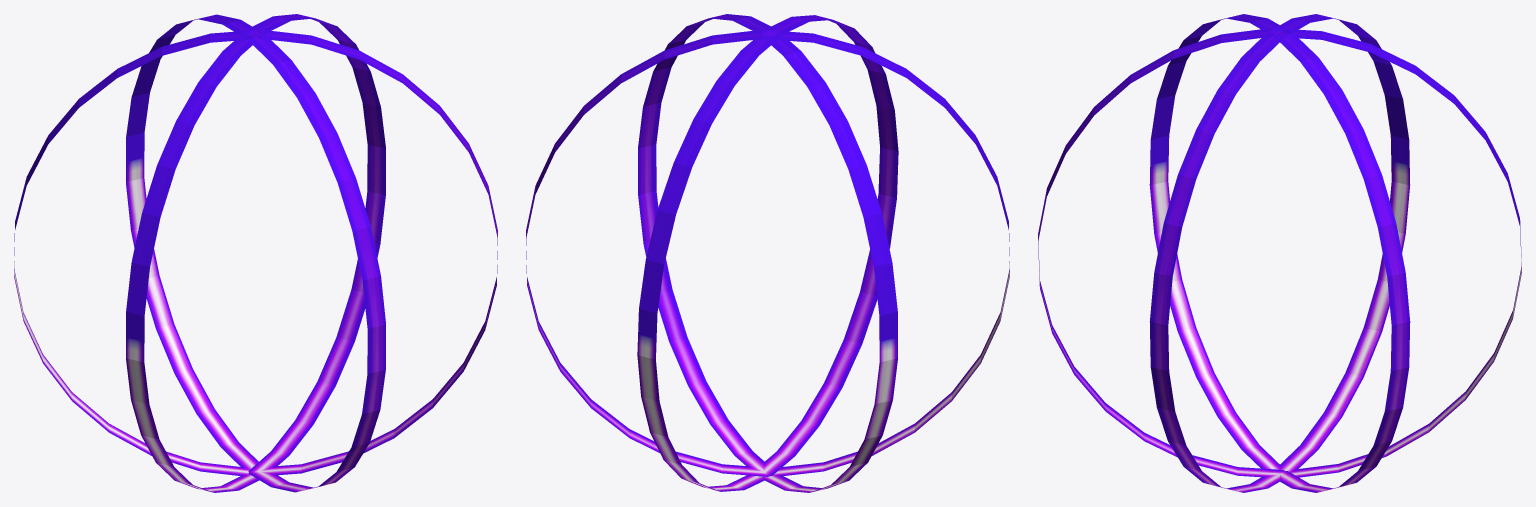
Rendered from tx_priest_dun_keep.obj.
3 renders of one model, left to right at view 1: azimuth 30°, elevation 25°; view 2: azimuth 150°, elevation 25°; view 3: azimuth 270°, elevation 25°, orthographic.
Visible parts, largest first — view 1: Sphere01, Sphere03, Sphere02; view 2: Sphere01, Sphere02, Sphere03; view 3: Sphere03, Sphere02, Sphere01.
Part boxes in pixels (x1,y1,x2,y2): Sphere01: [126, 14, 385, 492]; Sphere03: [126, 14, 385, 492]; Sphere02: [14, 29, 497, 475]; Sphere01: [637, 15, 898, 491]; Sphere02: [638, 14, 897, 492]; Sphere03: [526, 29, 1009, 476]; Sphere03: [1149, 14, 1410, 492]; Sphere02: [1149, 14, 1410, 492]; Sphere01: [1038, 28, 1521, 477].
Bounding box in the file's own units: 85.22 × 96.32 × 96.08.
1 material, 1 textured.
